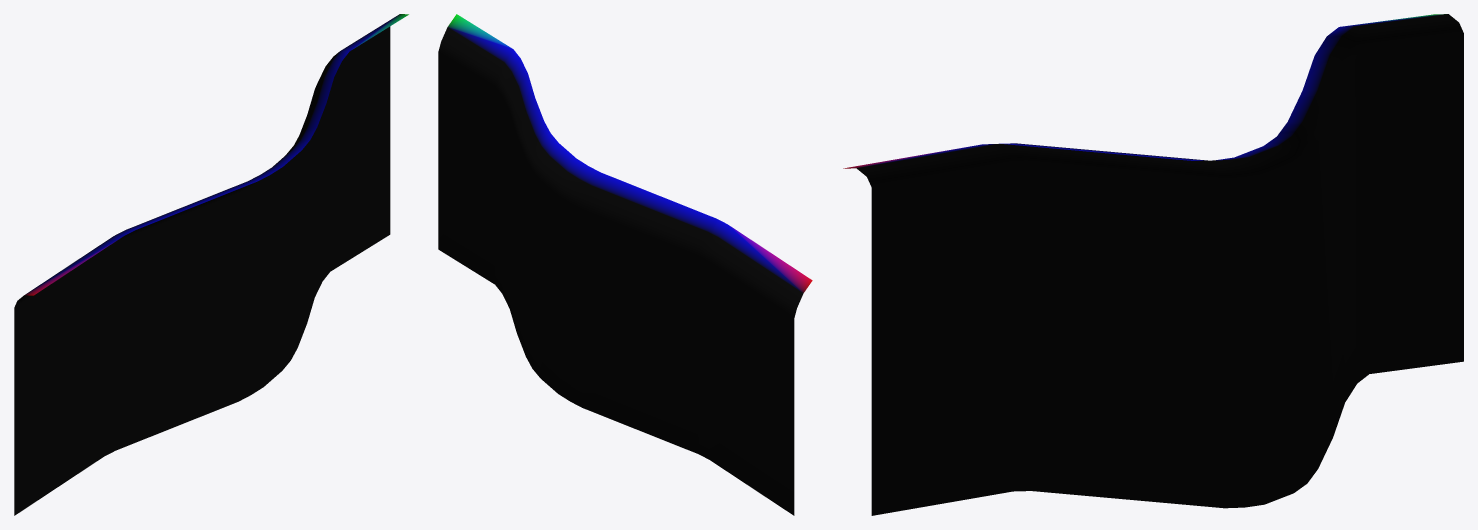
Rendered from 3DSlope03.fbx.
The picture shows the model from 3 angles, left to right: view 1: azimuth 30°, elevation 25°; view 2: azimuth 150°, elevation 25°; view 3: azimuth 330°, elevation 25°; orthographic projection. The views are drawn at different scales.
Parts seen in each view (by area): view 1: Slope03; view 2: Slope03; view 3: Slope03.
Part boxes in pixels (bbox=[...]): Slope03: bbox=[14, 14, 408, 515]; Slope03: bbox=[438, 14, 812, 515]; Slope03: bbox=[843, 14, 1463, 515].
Bounding box in the file's own units: 8701 × 9382 × 777.
